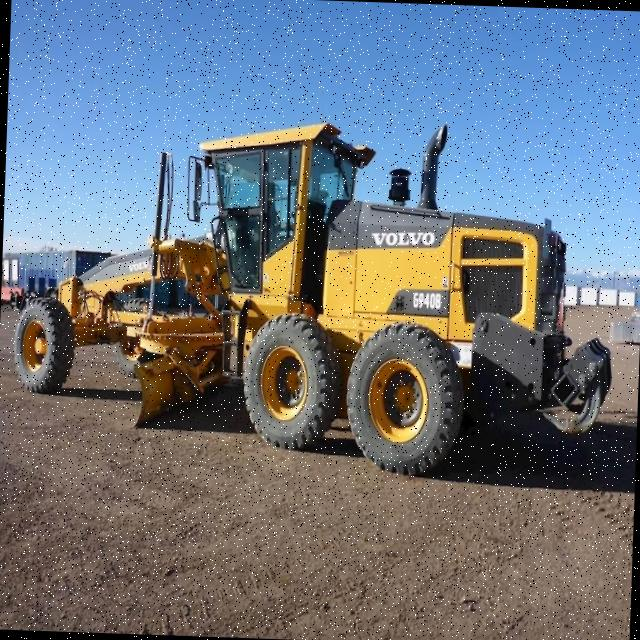Grader: (6, 109, 614, 492)
